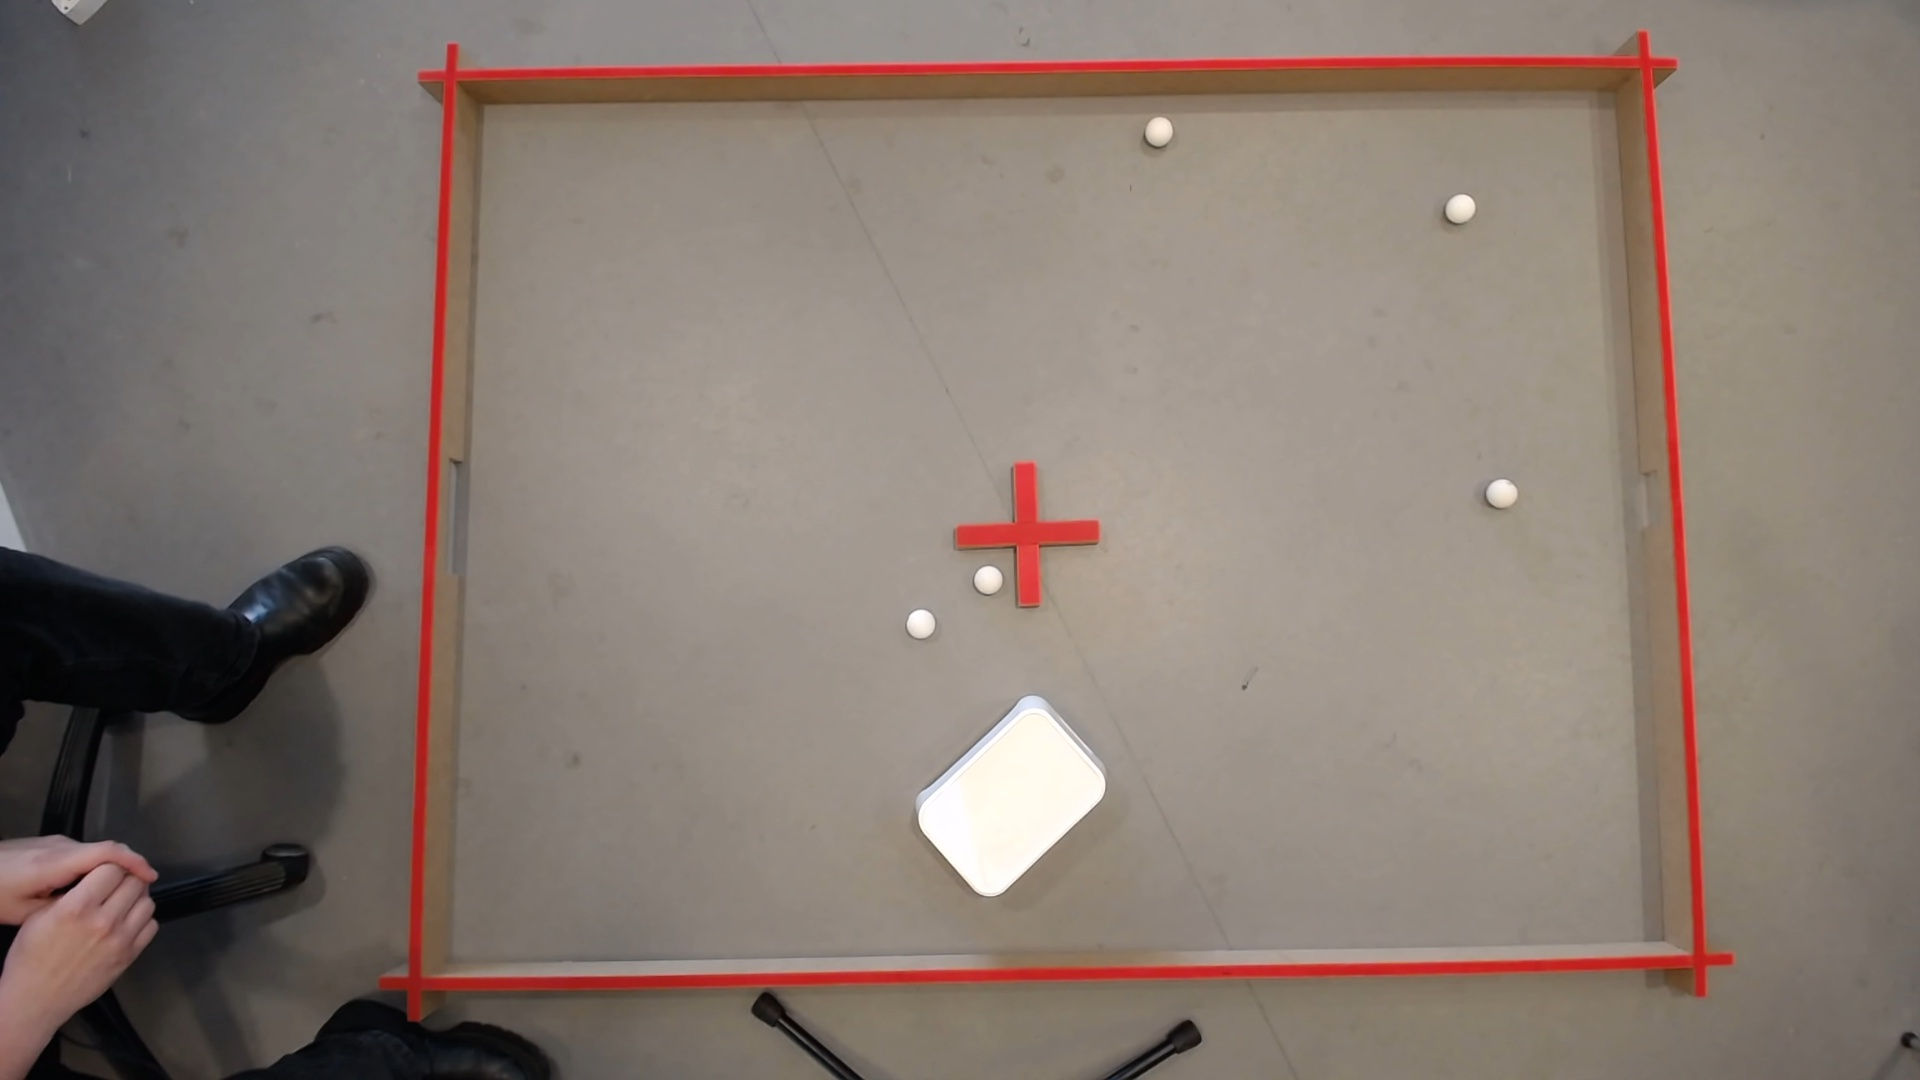balls: (899, 687, 1120, 905), (58, 861, 108, 909), (901, 604, 939, 640), (969, 560, 1005, 595), (1484, 473, 1520, 506), (1444, 189, 1477, 223), (1147, 116, 1171, 140)
car: (61, 841, 100, 866)
